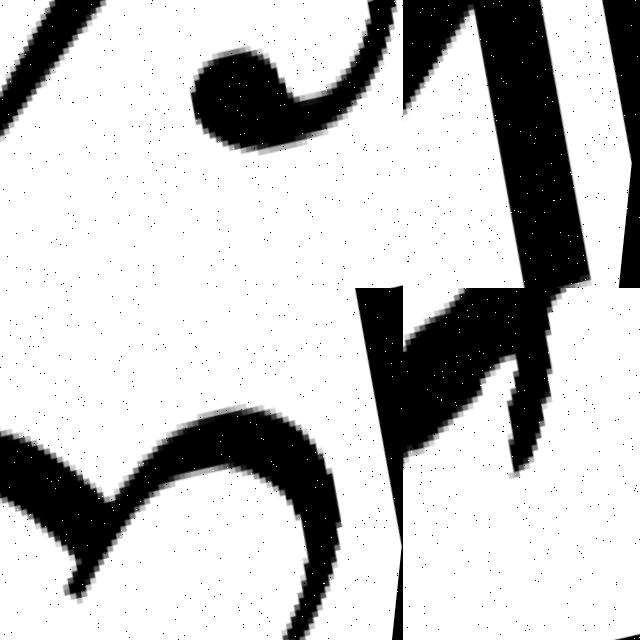2: (0, 0, 403, 285)
3: (0, 312, 403, 640)
T: (403, 288, 640, 640)
Z: (403, 0, 640, 288)
